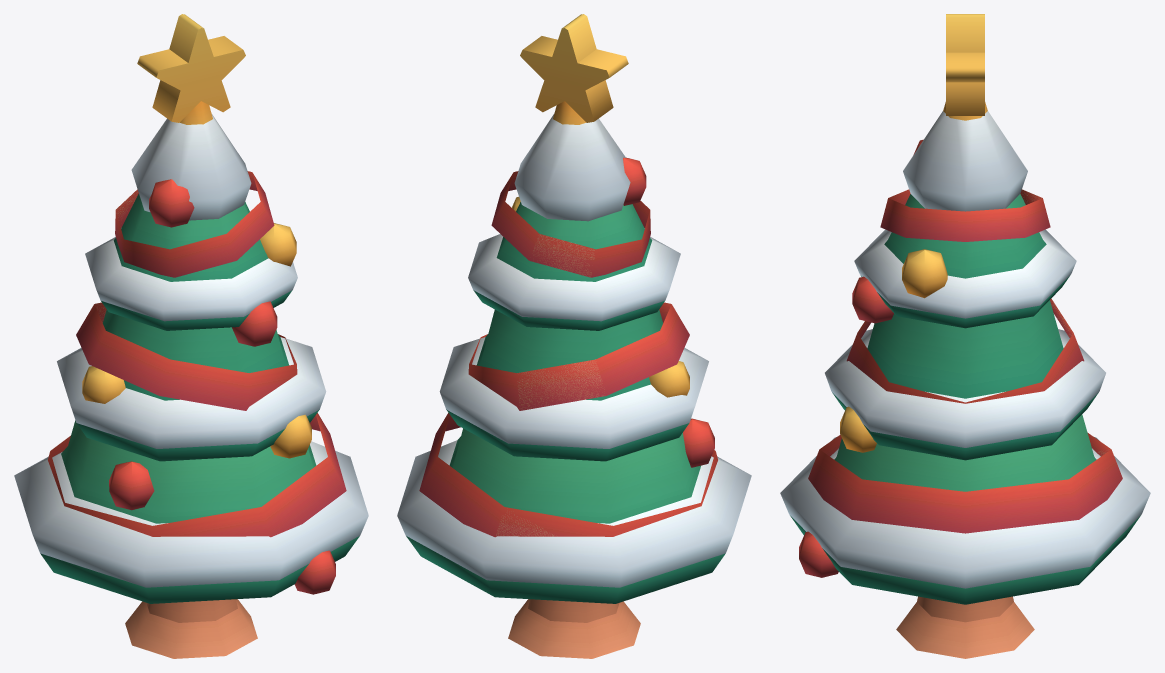
The model's file is k-holiday-tree-decorated-snow.glb.
3 views of the same model, side by side, from view 1: azimuth 30°, elevation 25°; view 2: azimuth 150°, elevation 25°; view 3: azimuth 270°, elevation 25° (orthographic).
Visible parts, largest first — view 1: tree-decorated-snow; view 2: tree-decorated-snow; view 3: tree-decorated-snow.
Boxes of the visible parts, x1,y1,x2,y2 form: tree-decorated-snow: (14, 14, 368, 658); tree-decorated-snow: (397, 14, 751, 658); tree-decorated-snow: (780, 14, 1150, 658).
Size of the model in its own units: 1.25 by 2.29 by 1.25.
Materials: 1 (1 with a texture image).
